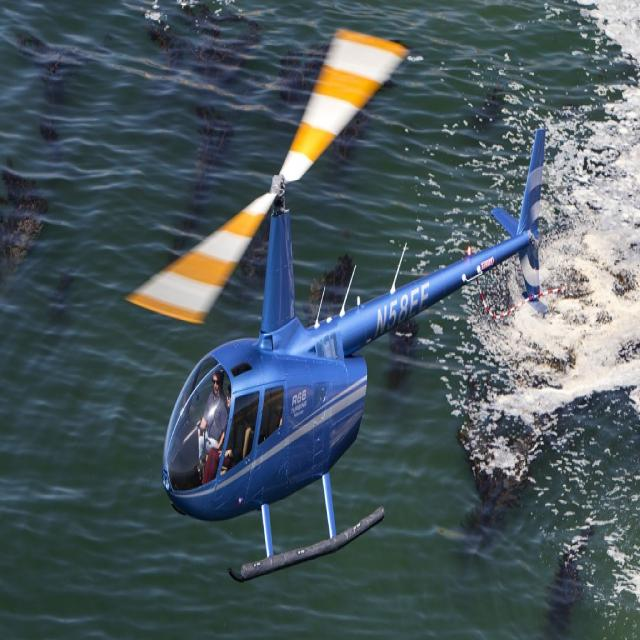helicopter: (149, 85, 556, 595)
